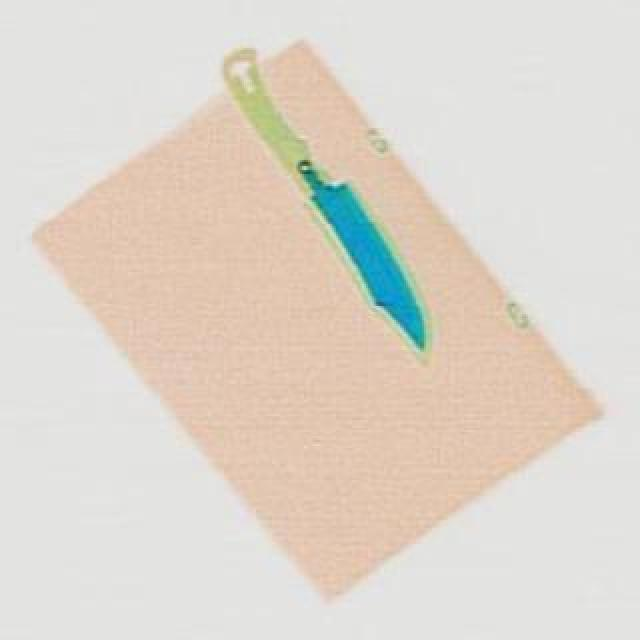knife: (208, 42, 448, 368)
